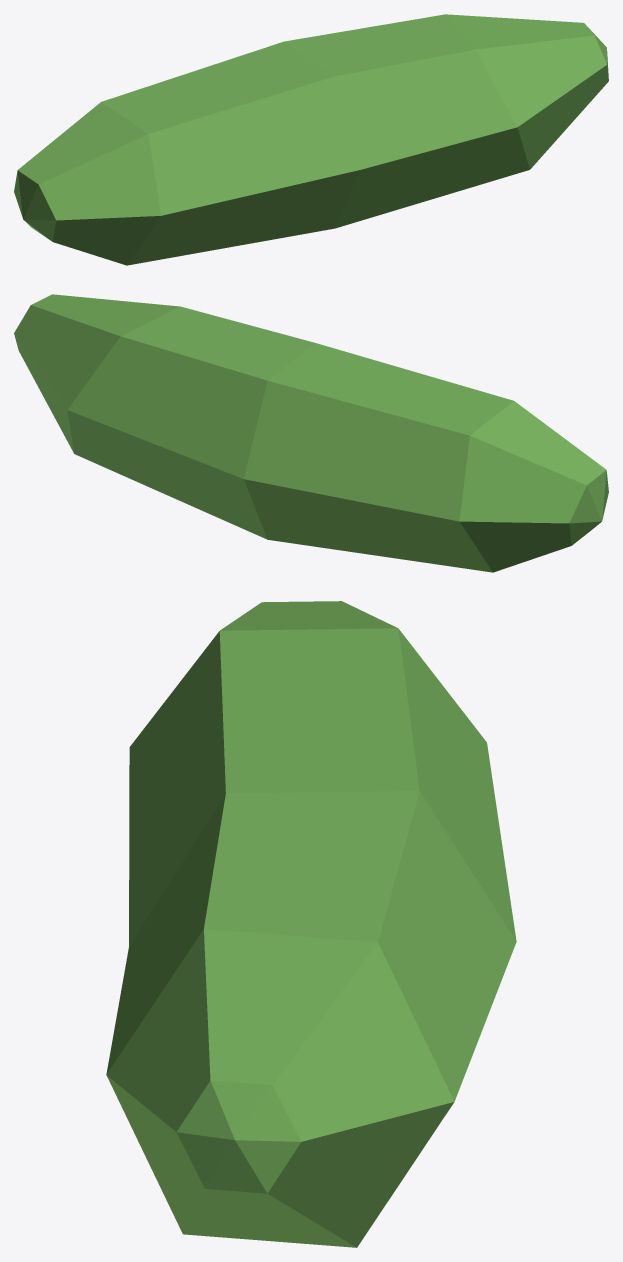
Rendered from Food_cucumber.glb.
The picture shows the model from 3 angles, top to bottom: view 1: azimuth 30°, elevation 25°; view 2: azimuth 150°, elevation 25°; view 3: azimuth 270°, elevation 25°; orthographic projection. The views are drawn at different scales.
Parts seen in each view (by area): view 1: cucumber; view 2: cucumber; view 3: cucumber.
Boxes of the visible parts, x1=… form: cucumber: x1=14, y1=14, x2=608, y2=265; cucumber: x1=14, y1=294, x2=608, y2=572; cucumber: x1=106, y1=601, x2=516, y2=1247.
Bounding box in the file's own units: 0.3087 × 0.0792 × 0.0967.
Materials: 1 (1 with a texture image).
